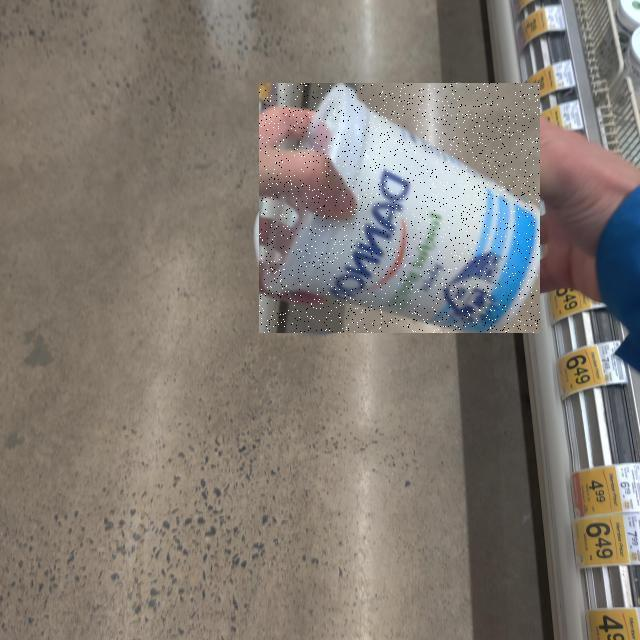Yoghurt: (259, 83, 540, 333)
